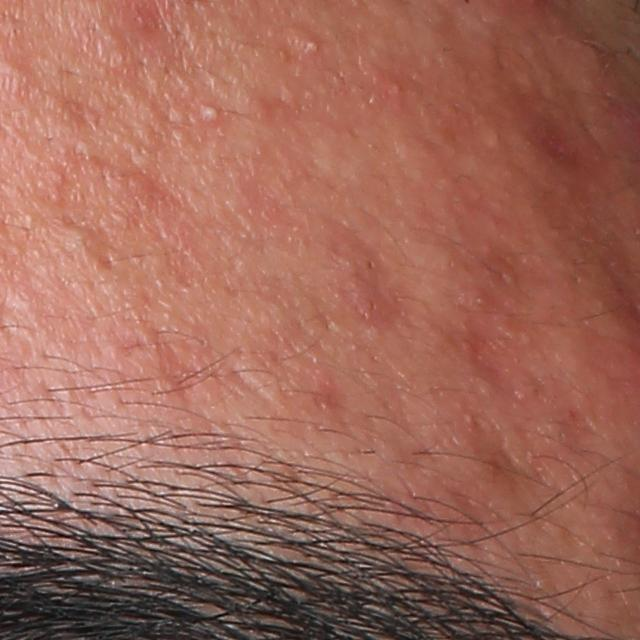pustule: (196, 99, 219, 127)
